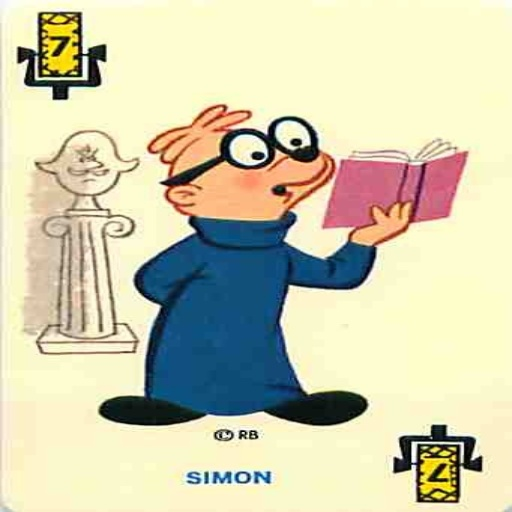hand: (361, 198, 429, 241)
